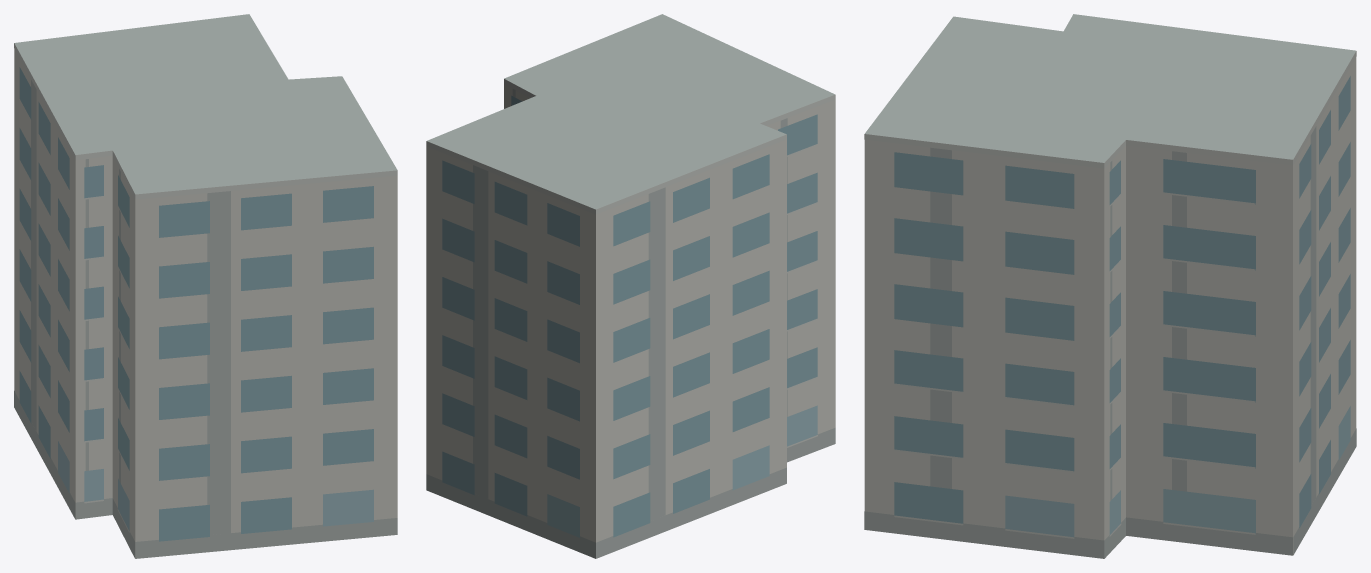
Rendered from survey-upis-32873984.glb.
The picture shows the model from 3 angles, left to right: view 1: azimuth 30°, elevation 25°; view 2: azimuth 150°, elevation 25°; view 3: azimuth 270°, elevation 25°; orthographic projection. The views are drawn at different scales.
Visible parts, largest first — view 1: survey-upis-32873984.tmp; view 2: survey-upis-32873984.tmp; view 3: survey-upis-32873984.tmp.
Boxes of the visible parts, x1=… form: survey-upis-32873984.tmp: x1=14, y1=14, x2=397, y2=558; survey-upis-32873984.tmp: x1=426, y1=14, x2=835, y2=558; survey-upis-32873984.tmp: x1=864, y1=14, x2=1356, y2=558.
Size of the model in its own units: 13.41 by 16.6 by 18.71.
